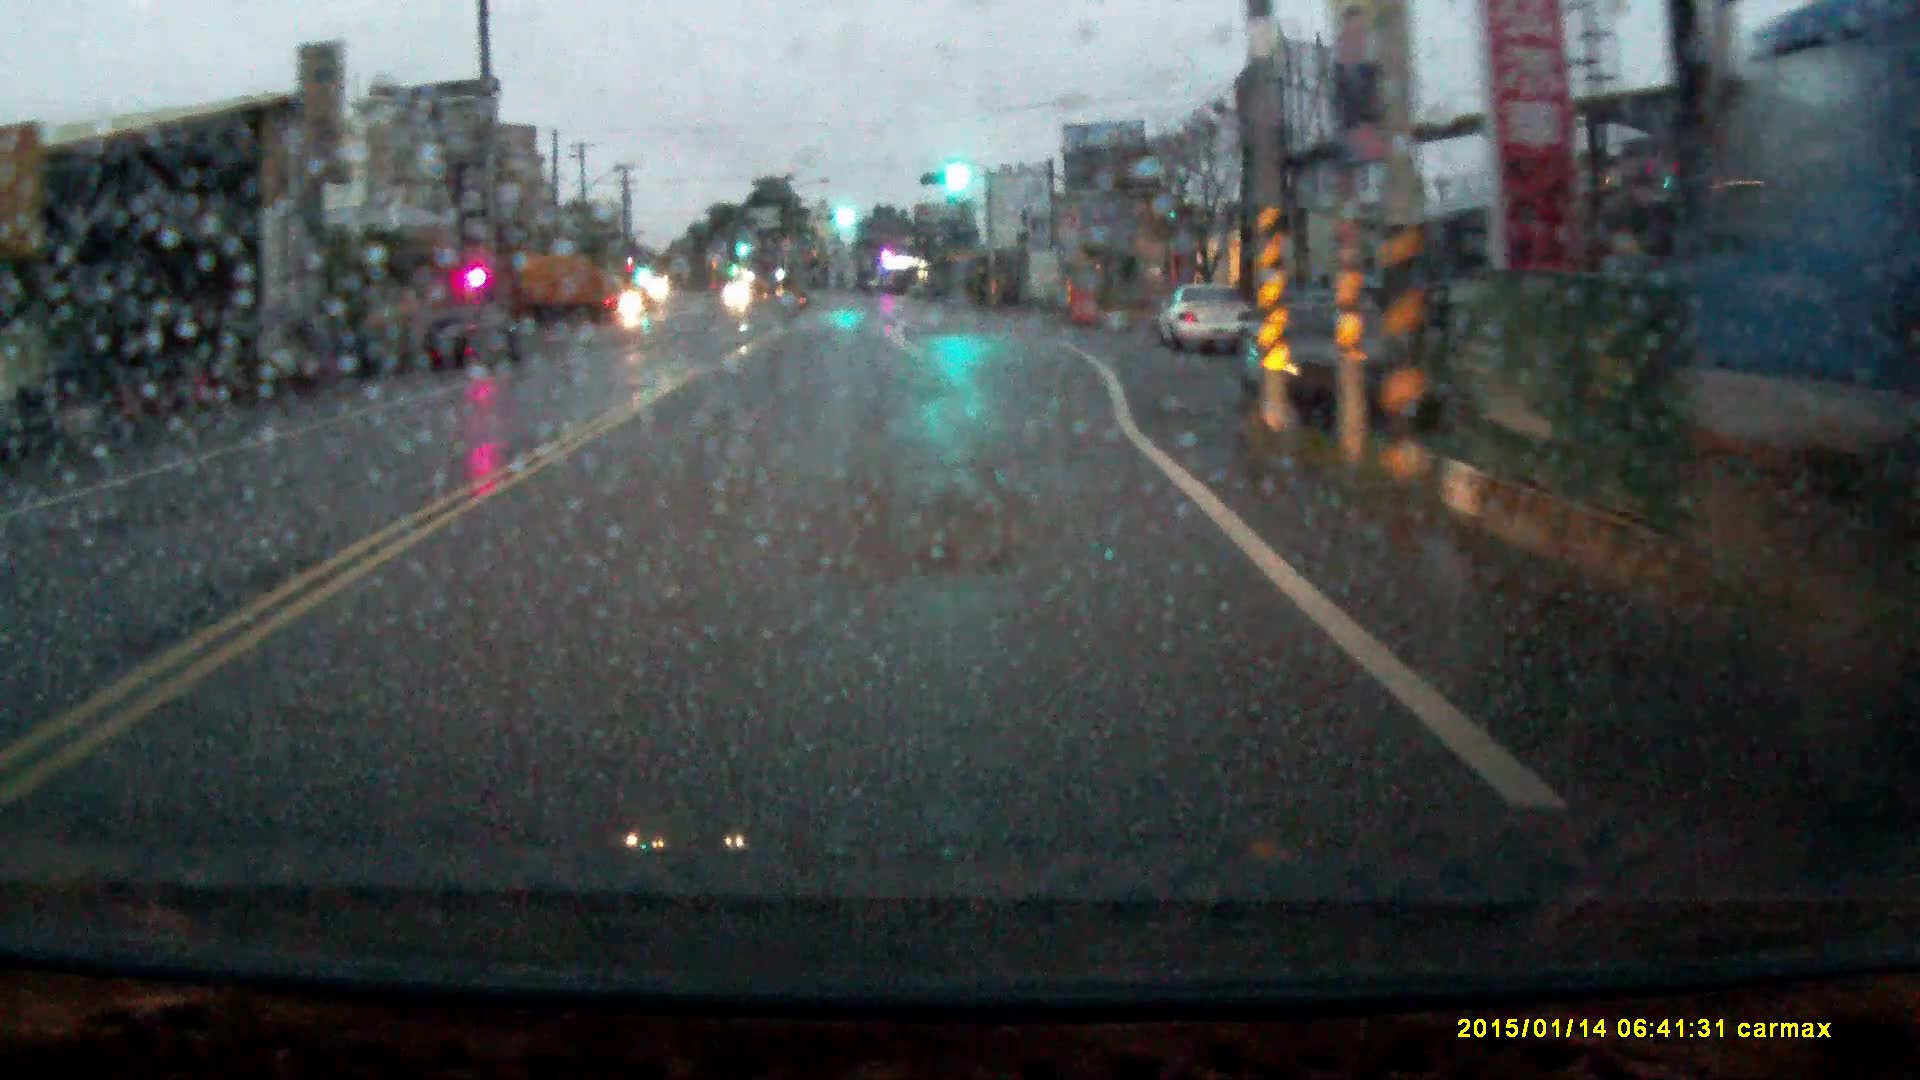rider: (616, 278, 647, 338)
vehicle: (1231, 298, 1409, 433), (508, 258, 611, 337), (416, 311, 522, 377), (1152, 288, 1249, 358)
